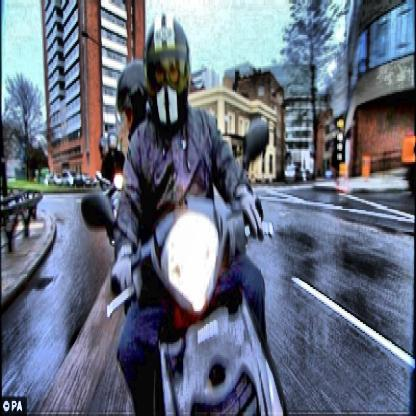wear: (146, 14, 190, 124)
